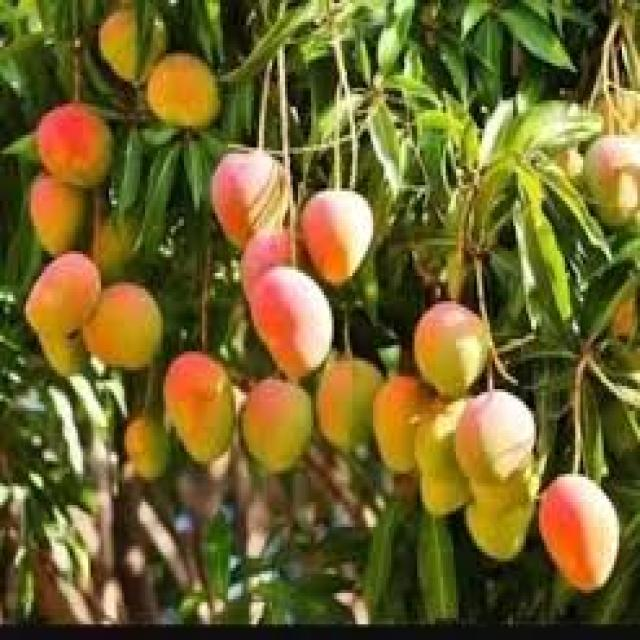mango: (246, 264, 334, 383)
